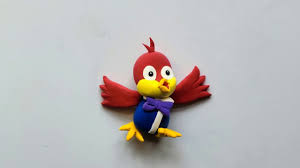Harry: (96, 37, 213, 146)
